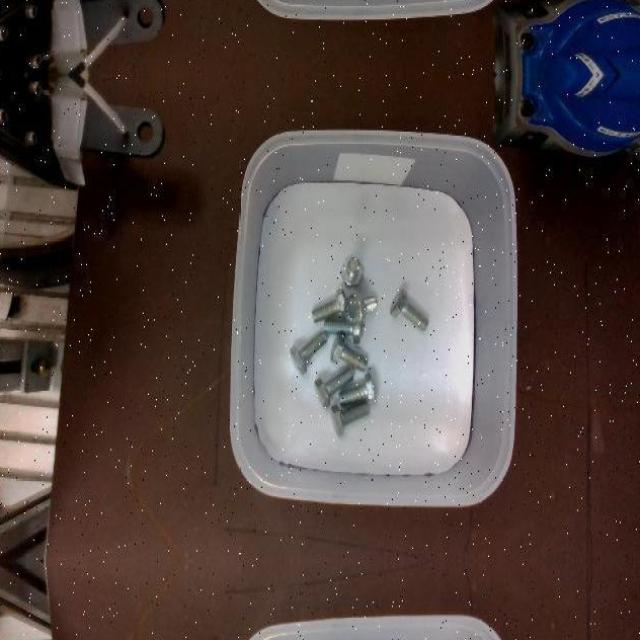screw: (389, 288, 428, 332), (291, 331, 328, 376), (314, 366, 352, 408), (329, 331, 368, 369), (331, 401, 370, 437), (311, 287, 346, 323), (337, 373, 376, 405), (344, 292, 377, 326), (340, 255, 363, 286)
